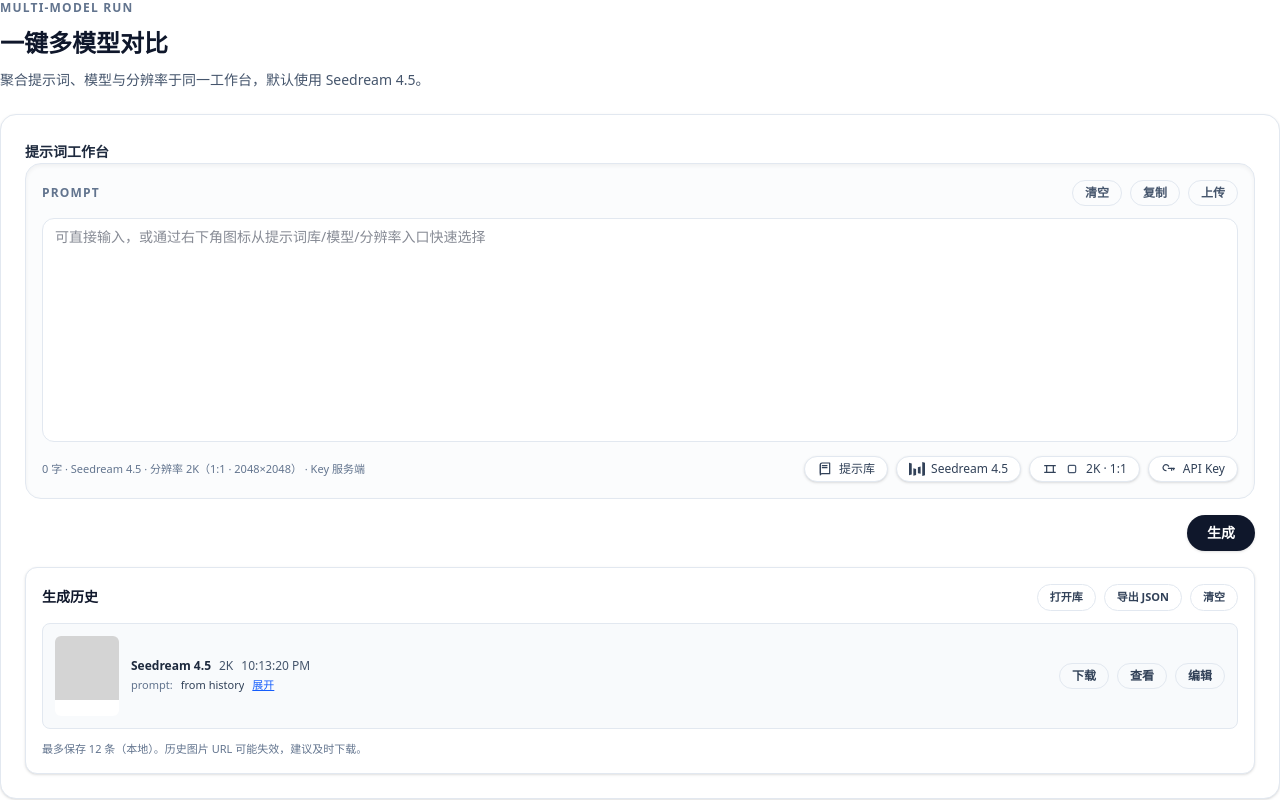
Test: GenerateClient (MSW) › opens the image preview modal from history
The image size is (1280, 800).
Expected: the text titled "from history" is shown, [181,678,244,693]
Click the button "查看": (1142,676) [1117,662,1167,688]
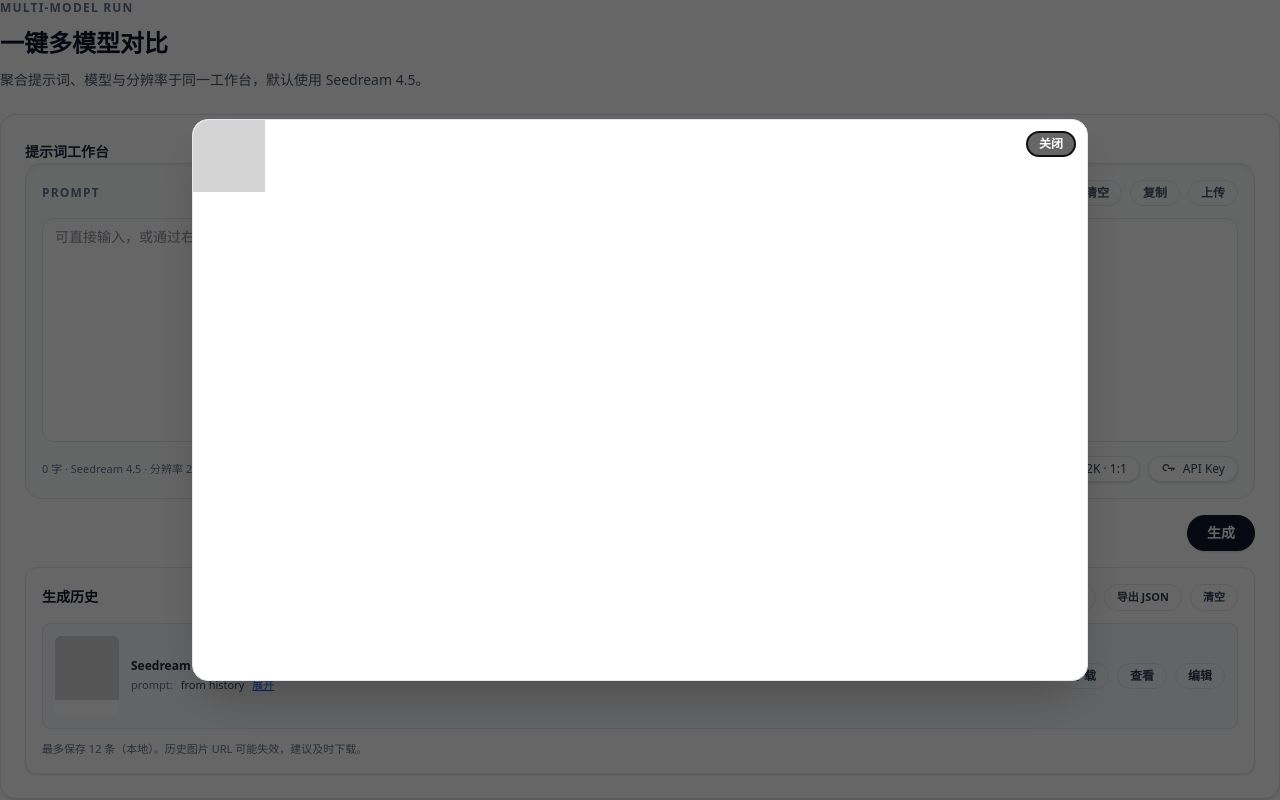
Click the button "关闭": (1051,144) [1027,132,1075,156]
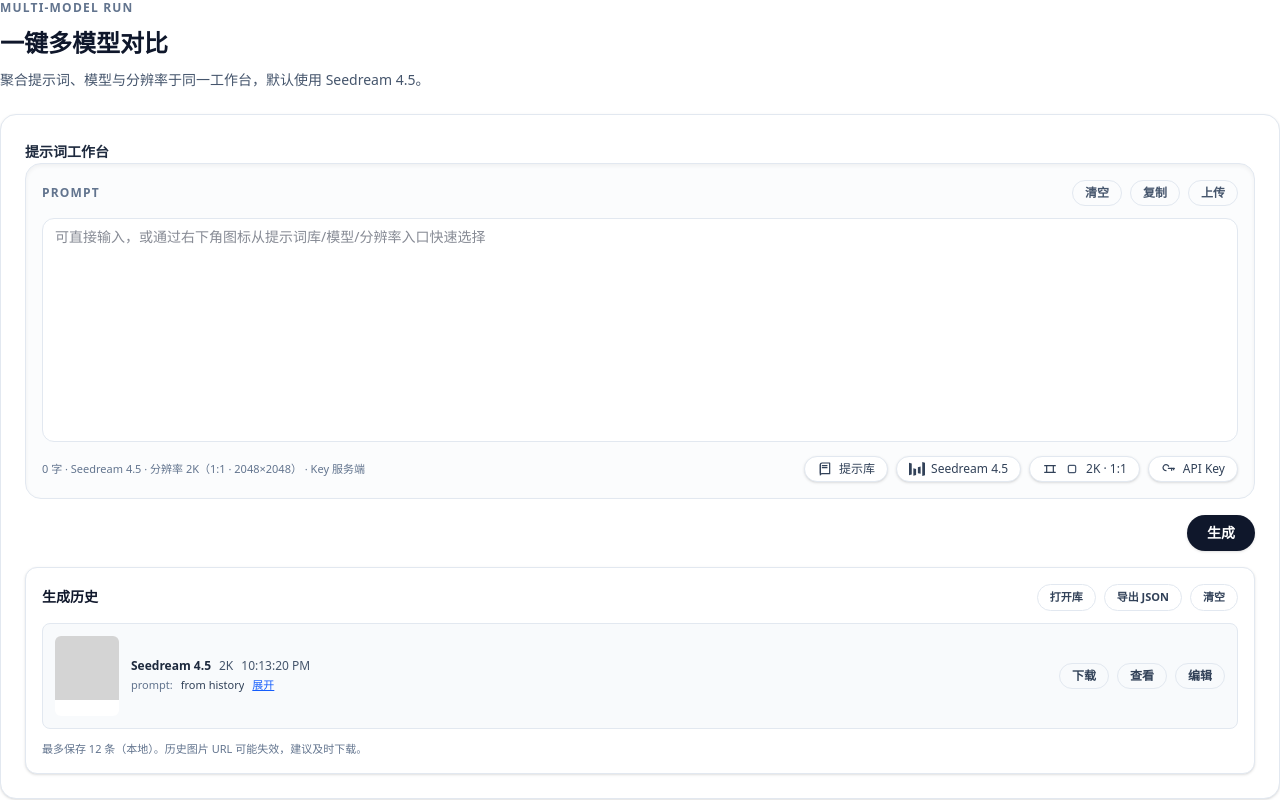
Now the picture with alt text "预览" is gone
